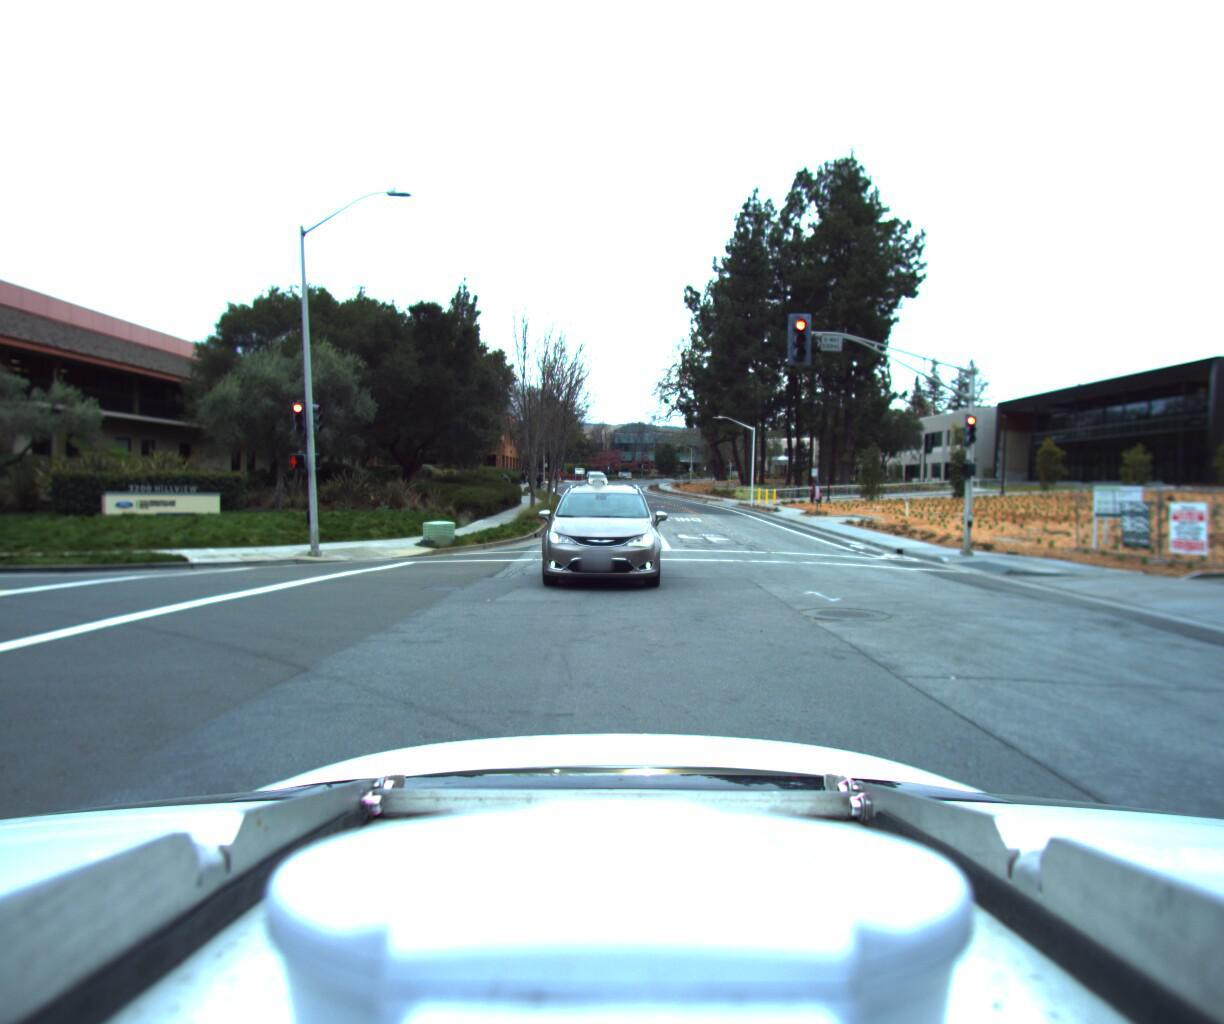car: (529, 475, 656, 592), (580, 460, 607, 490)
